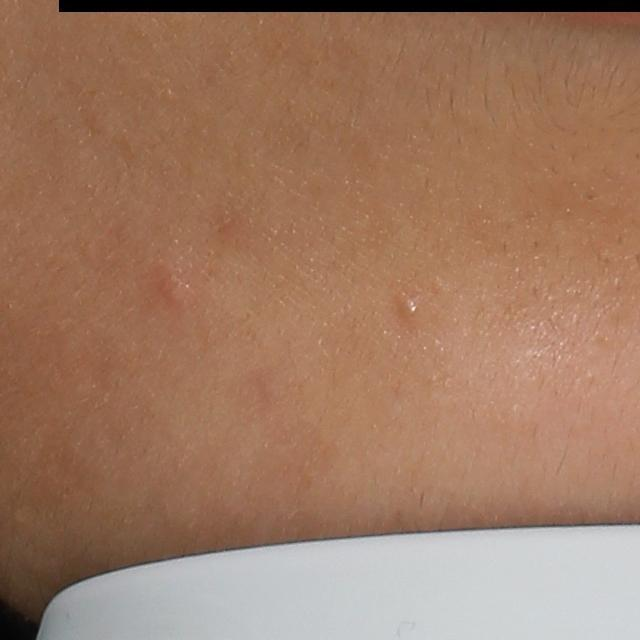comedo: (399, 288, 428, 326)
papule: (156, 271, 190, 310)
